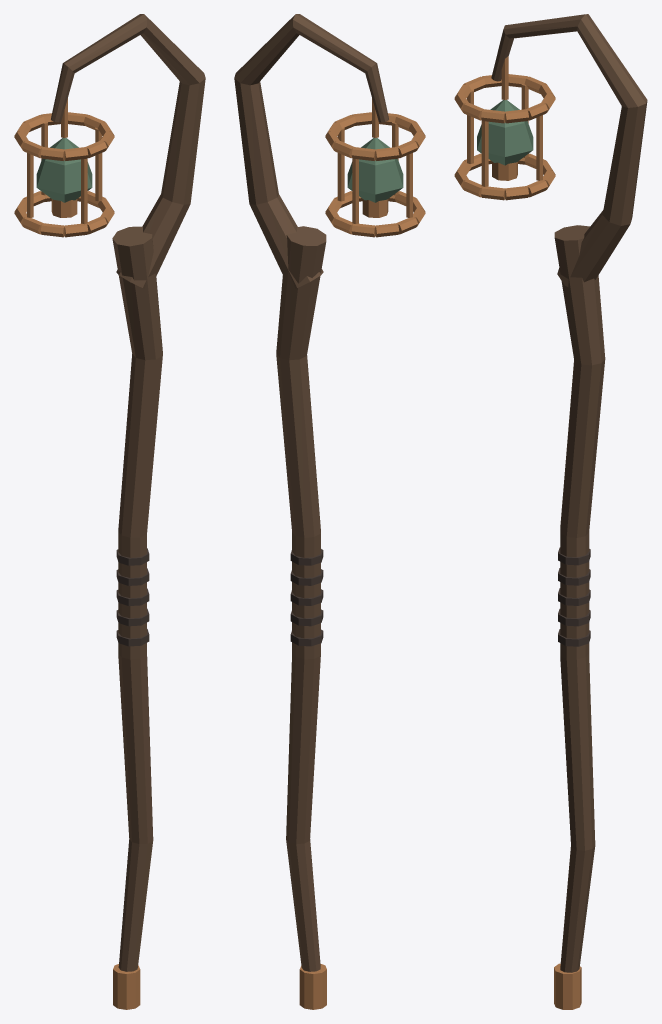
The model's file is AEW_Staff_LanternRoot.fbx.
3 renders of one model, left to right at view 1: azimuth 30°, elevation 25°; view 2: azimuth 150°, elevation 25°; view 3: azimuth 330°, elevation 25°, orthographic.
Parts seen in each view (by area): view 1: AEW_Staff_LanternRoot; view 2: AEW_Staff_LanternRoot; view 3: AEW_Staff_LanternRoot.
Boxes of the visible parts, left/top/right/bottom form: AEW_Staff_LanternRoot: left=14, top=14, right=205, bottom=1009; AEW_Staff_LanternRoot: left=234, top=14, right=425, bottom=1009; AEW_Staff_LanternRoot: left=454, top=14, right=647, bottom=1009.
Size of the model in its own units: 0.4281 by 2.2 by 0.2032.
